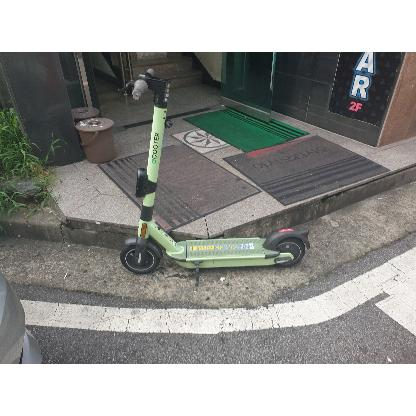bike: (117, 68, 310, 286)
car: (0, 193, 44, 364), (0, 255, 42, 364)
